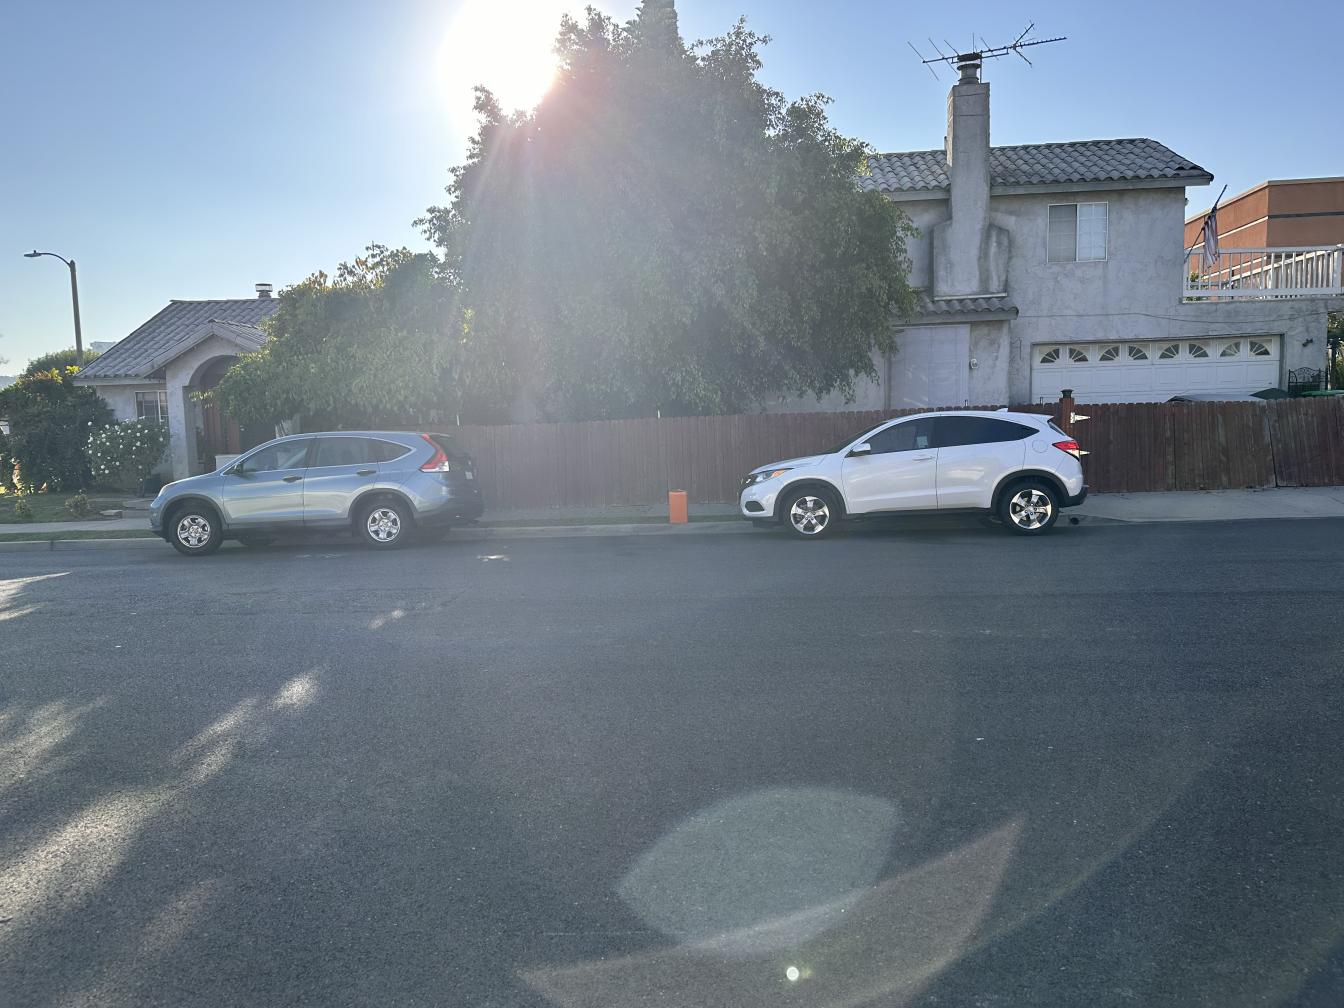curbs-laRr: (465, 520, 749, 547), (0, 538, 163, 557)
orange box: (669, 490, 689, 523)
